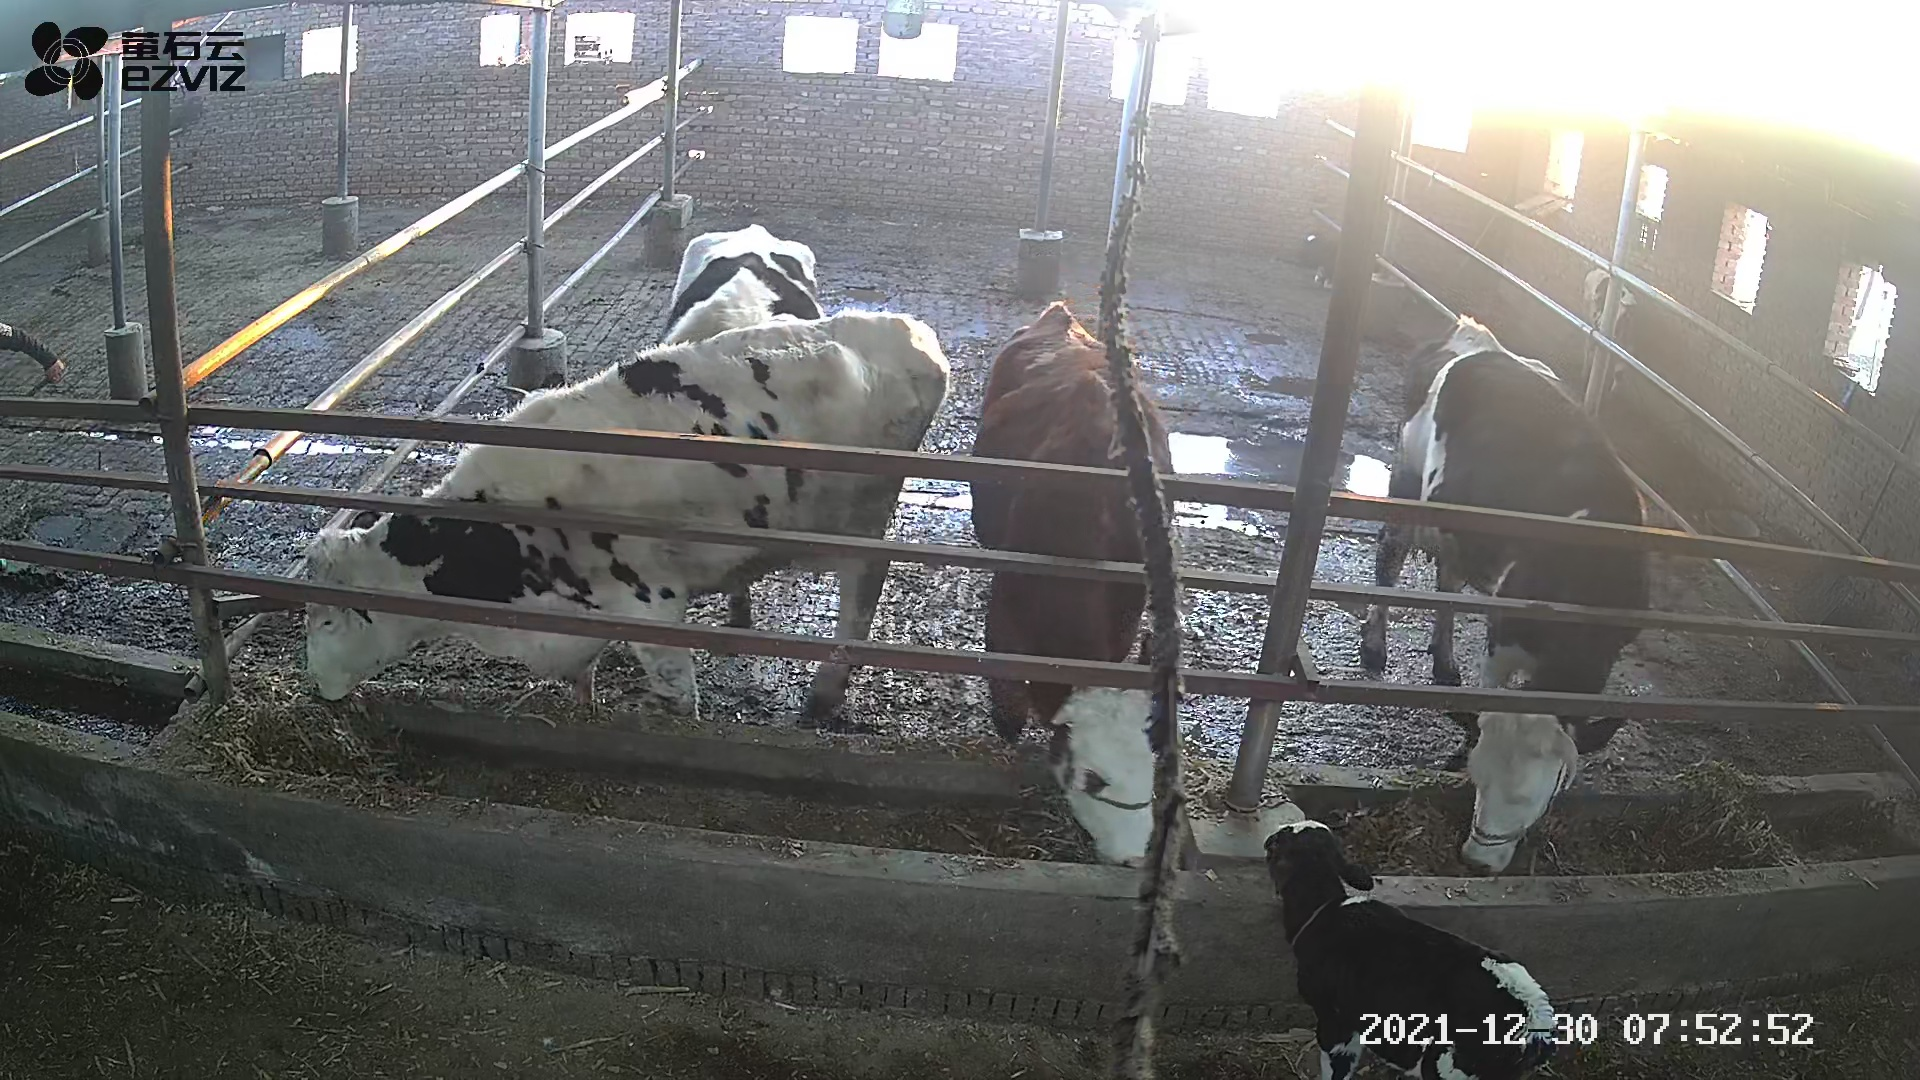cow: (302, 303, 949, 727), (1357, 311, 1652, 877), (968, 301, 1176, 872), (651, 222, 827, 632)
